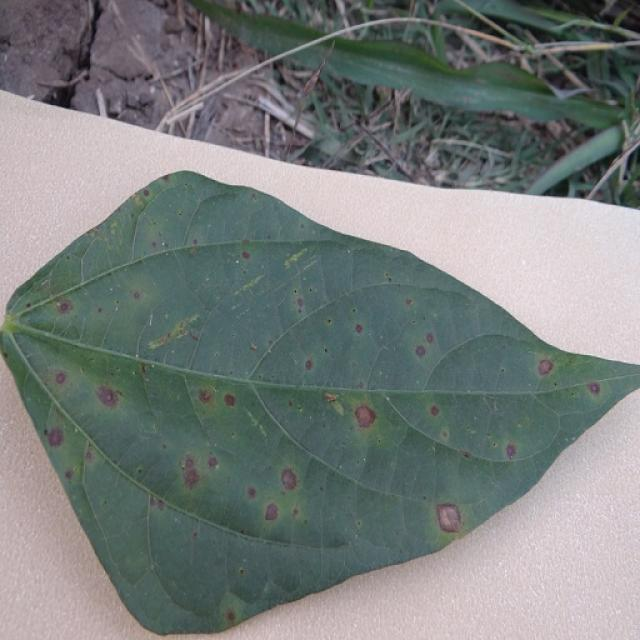Anthracnose: (89, 378, 128, 420), (434, 501, 463, 532), (413, 331, 438, 361), (181, 455, 202, 490), (353, 403, 378, 428), (45, 426, 64, 448), (280, 468, 298, 491), (54, 297, 74, 315), (536, 358, 554, 376), (264, 503, 278, 521), (198, 389, 213, 405), (149, 495, 165, 509), (183, 456, 196, 471), (587, 382, 601, 395), (506, 444, 517, 460), (224, 393, 236, 407), (55, 372, 67, 385), (415, 345, 426, 357), (207, 456, 218, 468), (188, 329, 199, 341), (247, 487, 257, 499), (189, 241, 197, 255), (430, 405, 440, 416), (64, 469, 74, 479), (227, 611, 236, 622), (305, 359, 313, 371), (85, 449, 93, 461), (426, 332, 434, 343), (140, 363, 147, 375), (355, 324, 363, 334), (296, 298, 304, 308), (241, 251, 250, 259), (405, 298, 413, 306), (161, 175, 170, 182), (143, 189, 150, 197), (463, 451, 471, 458), (292, 508, 298, 517), (133, 292, 140, 299), (97, 307, 103, 314), (25, 302, 32, 308), (356, 520, 362, 527), (2, 352, 8, 359), (151, 242, 157, 248), (251, 193, 257, 199), (192, 531, 197, 538), (239, 568, 244, 575), (500, 368, 505, 373)
Blackgram: (0, 172, 639, 632)
